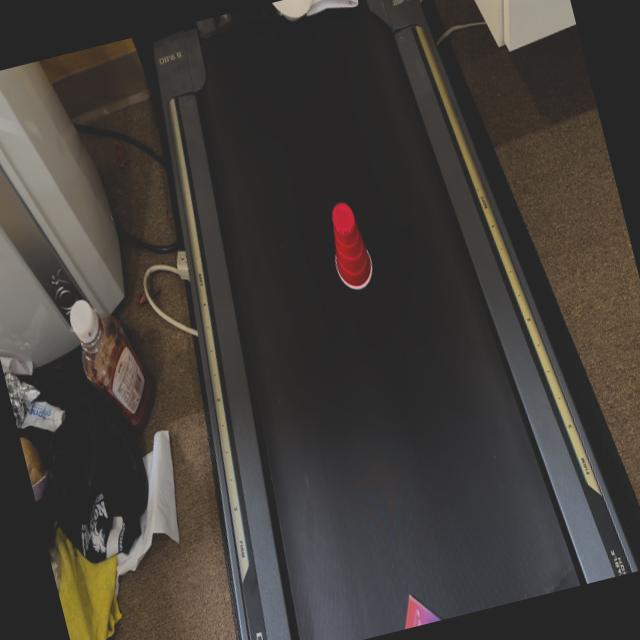Recycle: (320, 198, 378, 292), (390, 584, 447, 630)
